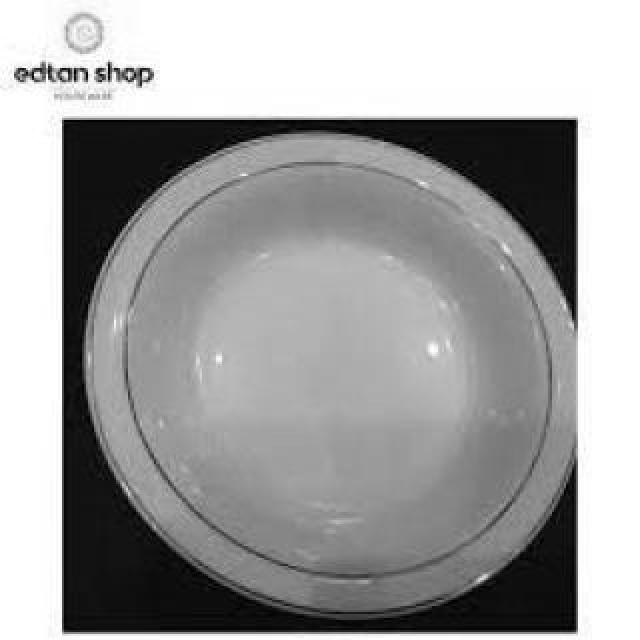plate: (57, 119, 575, 627)
